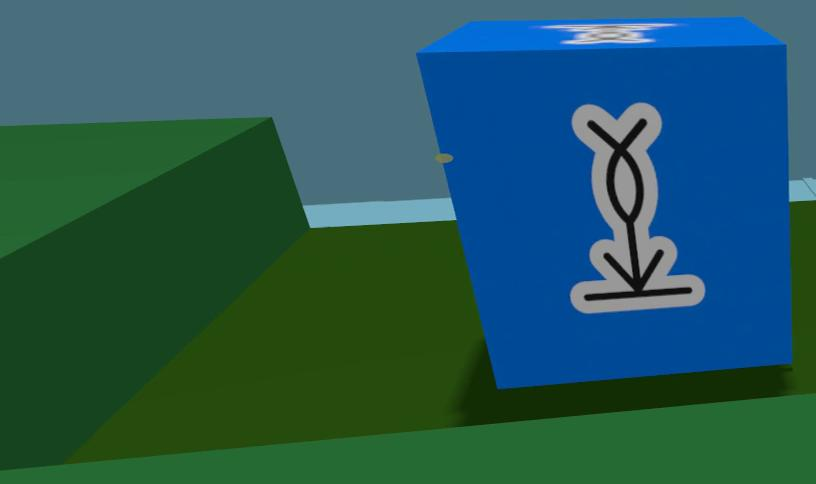KFS_REAL: (417, 17, 792, 387), (570, 102, 705, 314)
